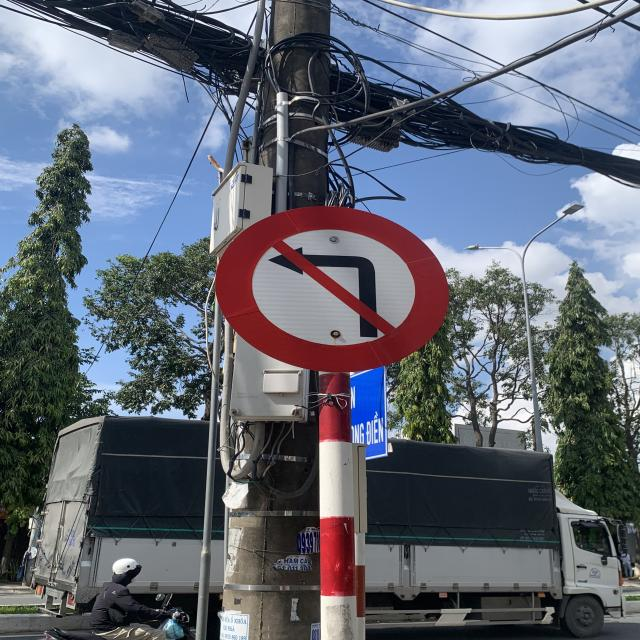Cam_Re_Trai: (214, 204, 448, 372)
